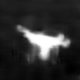plane: (14, 22, 73, 65)
